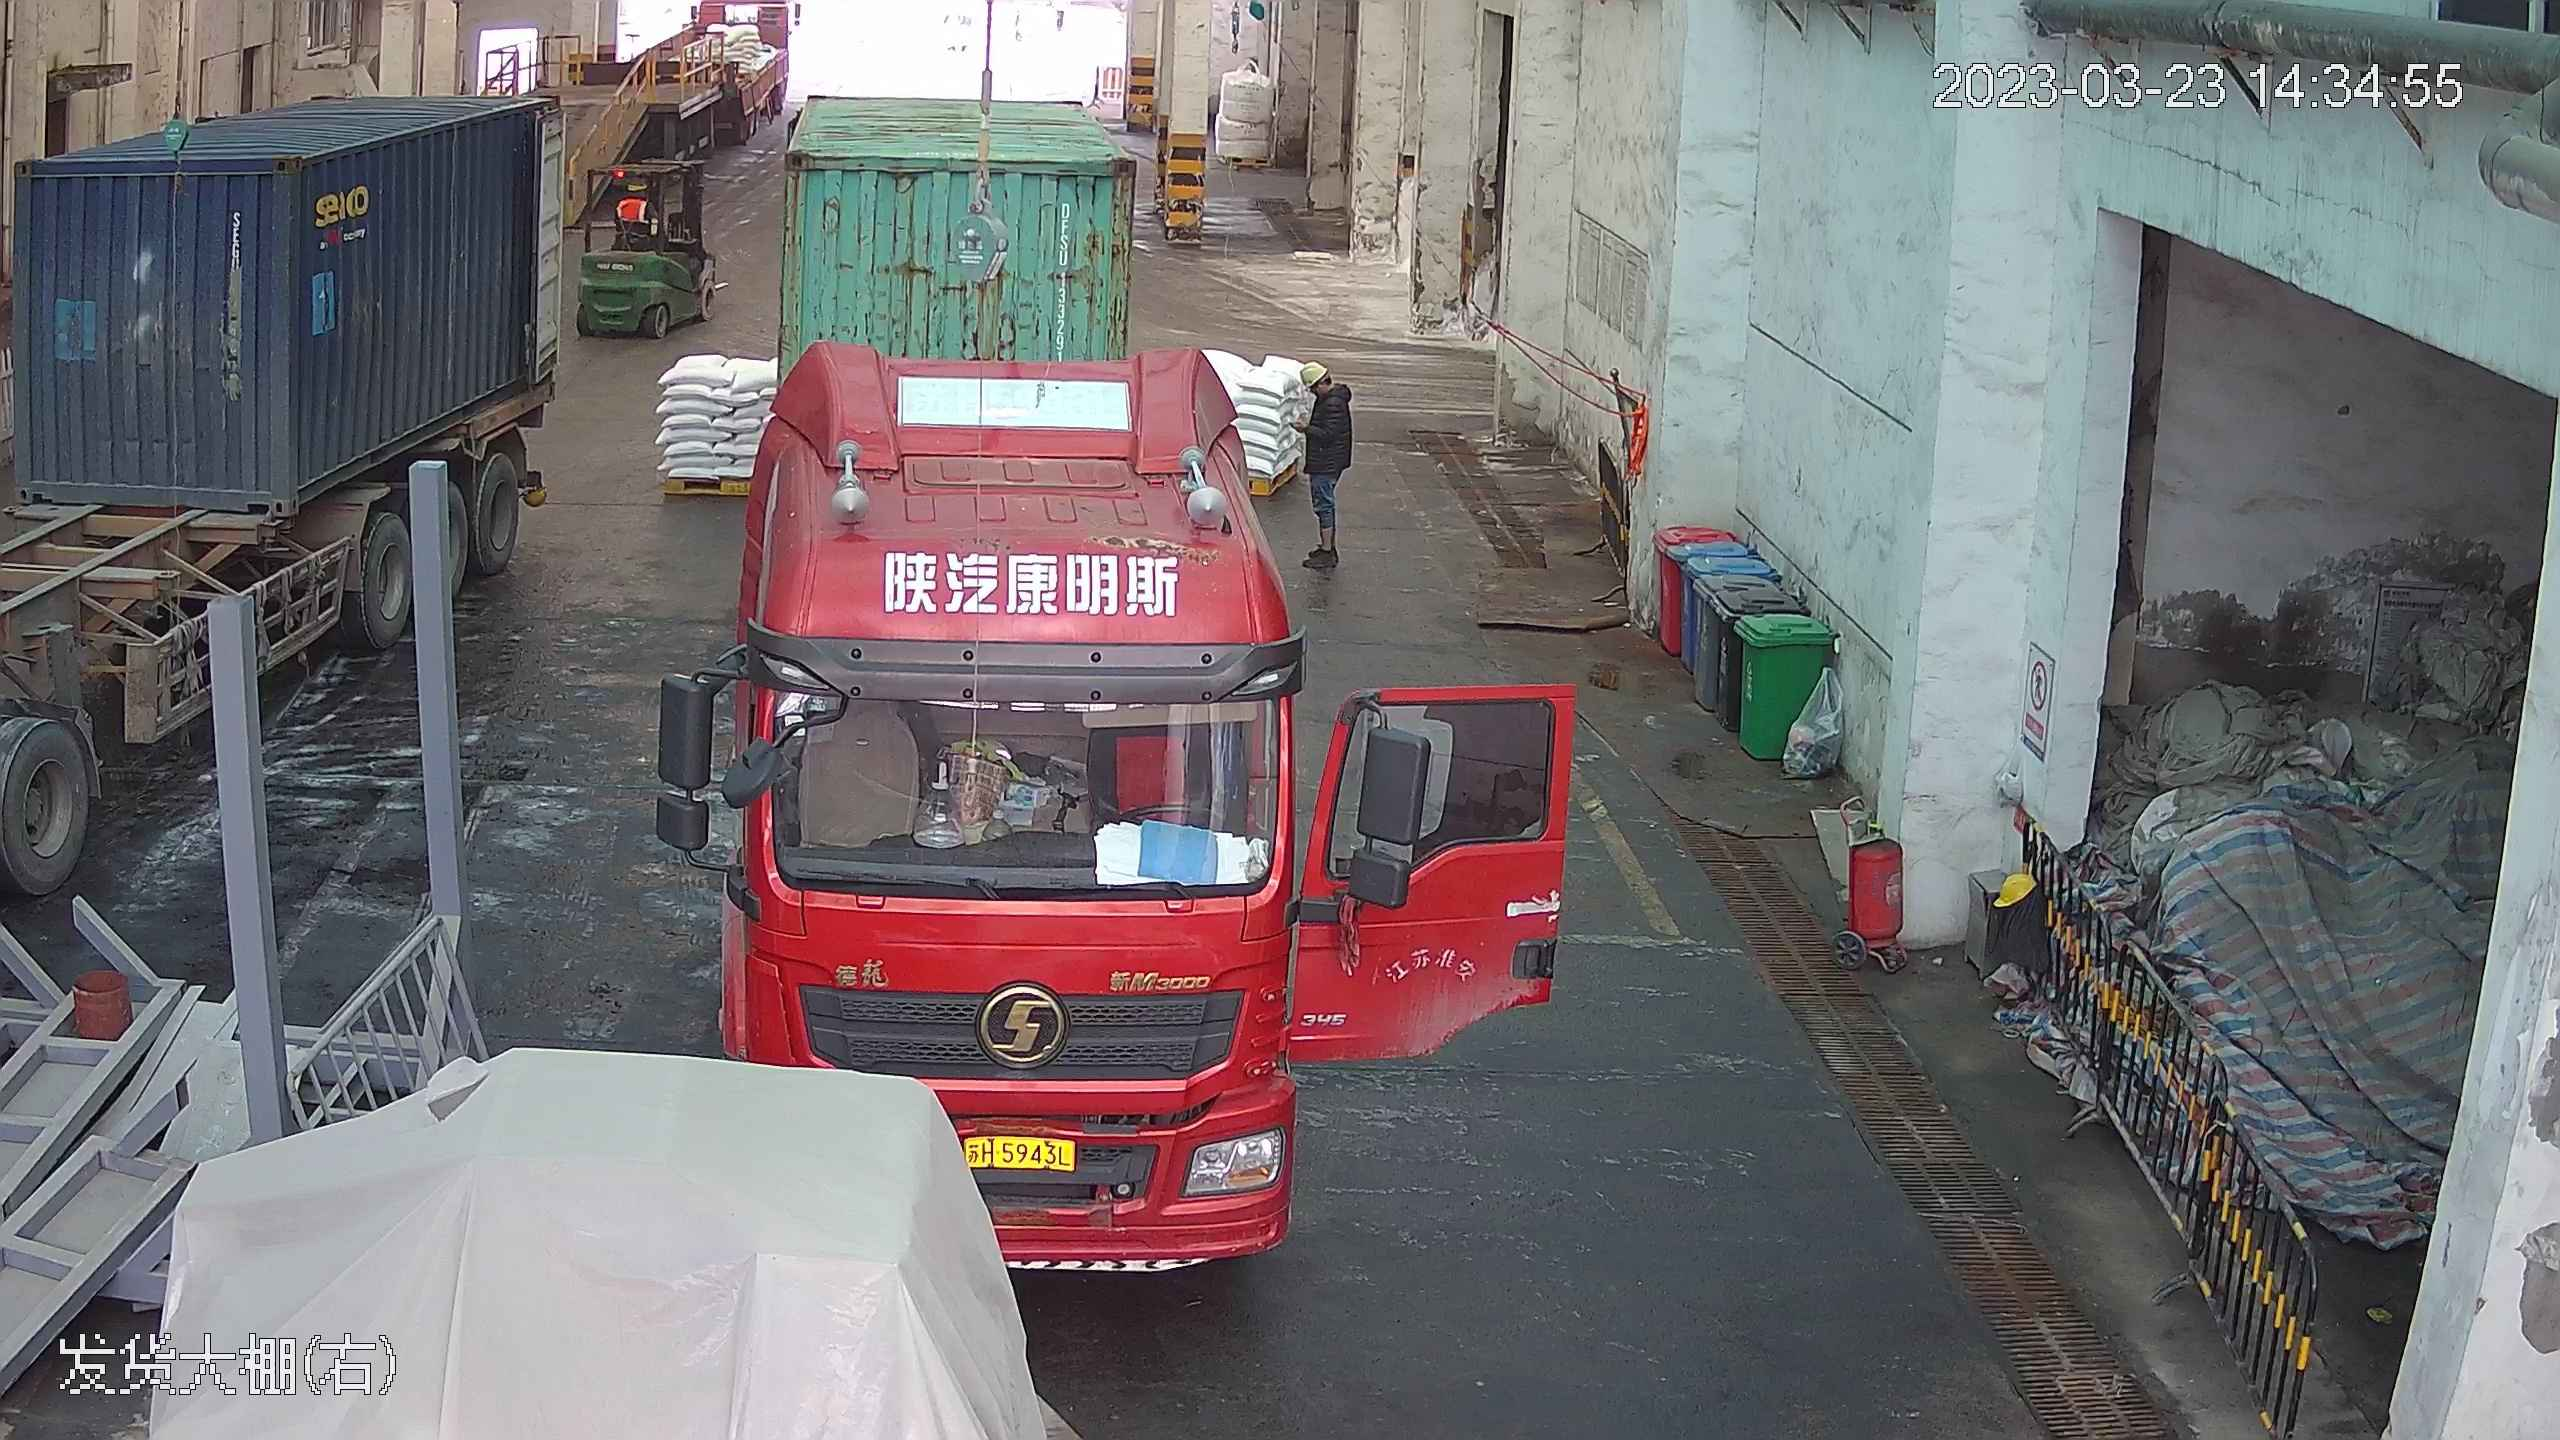head: (1298, 356, 1355, 426), (613, 174, 648, 216)
helmet: (1300, 354, 1338, 384)
people: (1293, 357, 1358, 568)
truck: (702, 69, 1505, 1251), (2, 19, 574, 1171)
